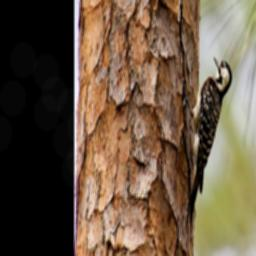Woodpecker: (182, 57, 232, 233)
